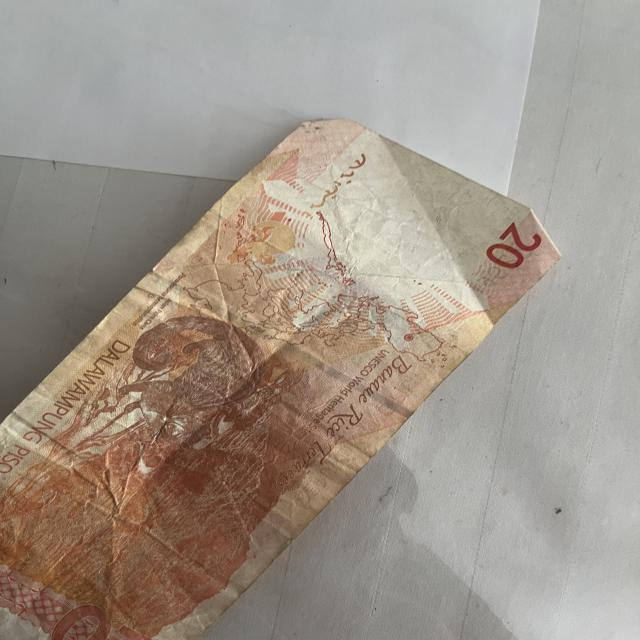20_civet: (126, 309, 271, 451)
20_civet_watermark: (233, 215, 304, 270)
